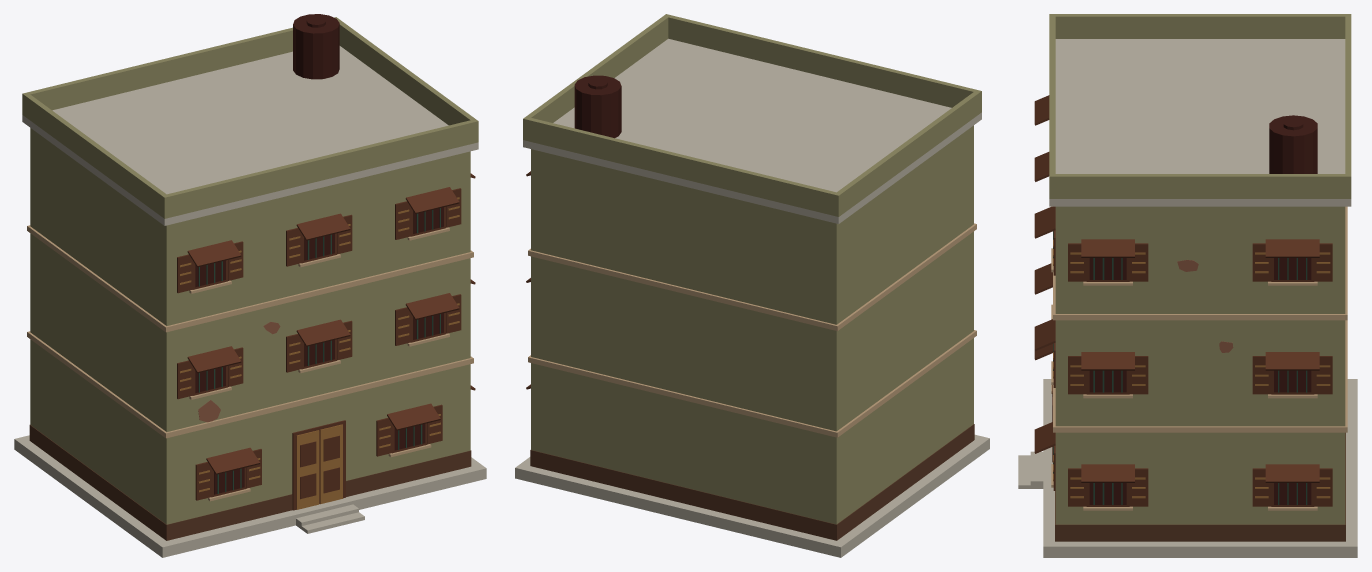
File: apartment_block.glb
3 views of the same model, side by side, from view 1: azimuth 30°, elevation 25°; view 2: azimuth 150°, elevation 25°; view 3: azimuth 270°, elevation 25° (orthographic). The views are drawn at different scales.
Parts seen in each view (by area): view 1: Walls, Roof, Details, Base; view 2: Walls, Roof, Base; view 3: Walls, Roof, Details, Base.
Part boxes in pixels (box(x1,y1,x2,y2)): Walls: box(27, 128, 473, 540); Roof: box(22, 14, 478, 225); Details: box(177, 173, 475, 510); Base: box(14, 435, 486, 557); Walls: box(528, 125, 976, 540); Roof: box(523, 14, 981, 223); Base: box(515, 434, 989, 557); Walls: box(1053, 206, 1347, 541); Roof: box(1049, 14, 1351, 206); Details: box(1034, 95, 1332, 510); Base: box(1018, 379, 1357, 557).
Size of what is drawn, in the model's own units: 9.81 by 10.88 by 8.2.
